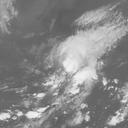cyclone: (48, 41, 91, 86)
